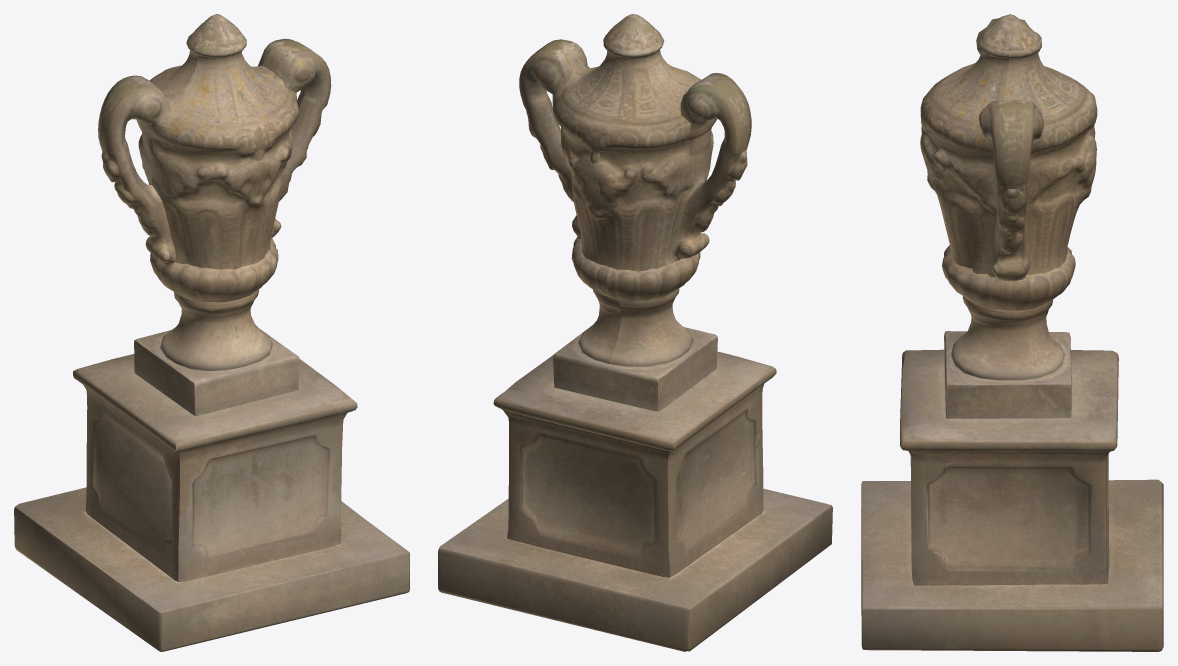
Rendered from stoneTrophy.obj.
3 views of the same model, side by side, from view 1: azimuth 30°, elevation 25°; view 2: azimuth 150°, elevation 25°; view 3: azimuth 270°, elevation 25° (orthographic). The views are drawn at different scales.
Parts seen in each view (by area): view 1: smooth; view 2: smooth; view 3: smooth.
Boxes of the visible parts, x1,y1,x2,y2 form: smooth: (14, 14, 409, 651); smooth: (438, 14, 832, 651); smooth: (861, 14, 1163, 651).
Bounding box in the file's own units: 0.1 × 0.2096 × 0.0996.
